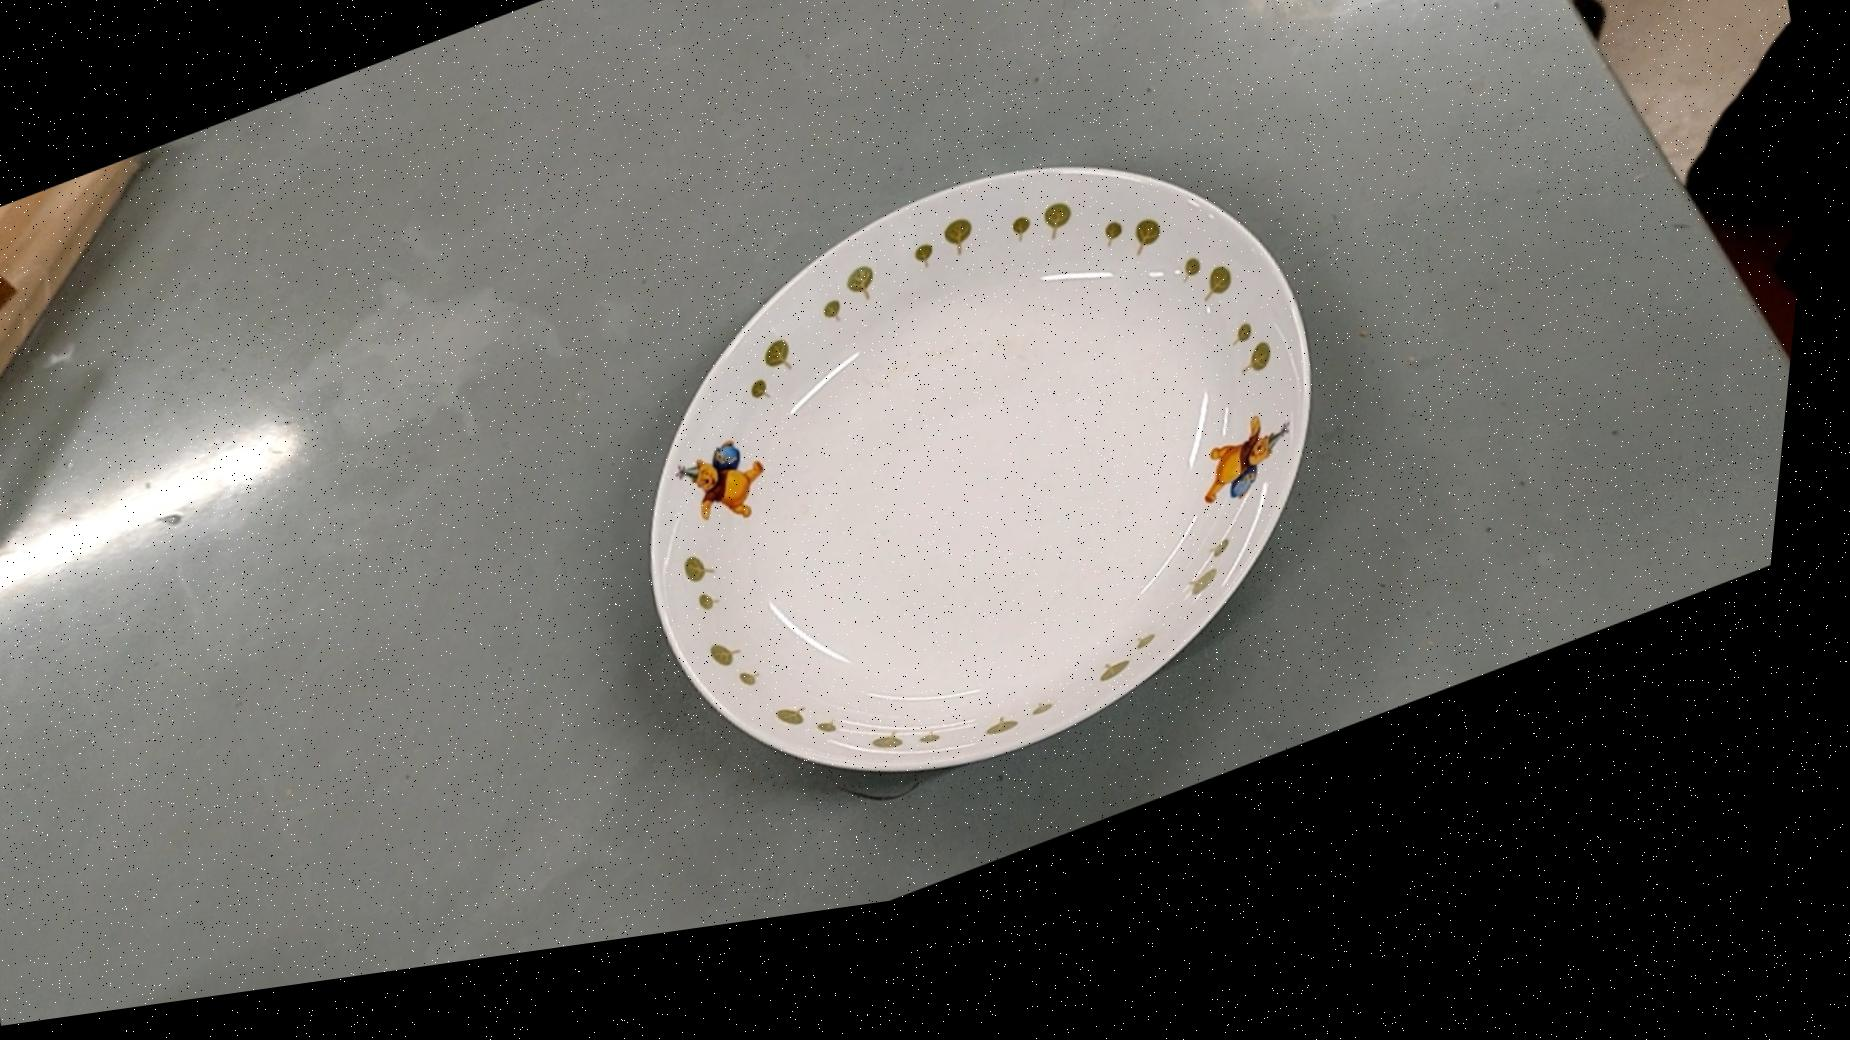plate: (573, 89, 1410, 910)
